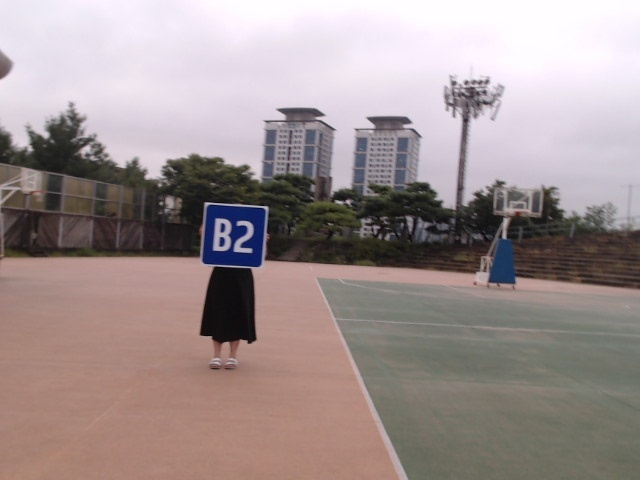delivery_b2: (200, 204, 267, 269)
